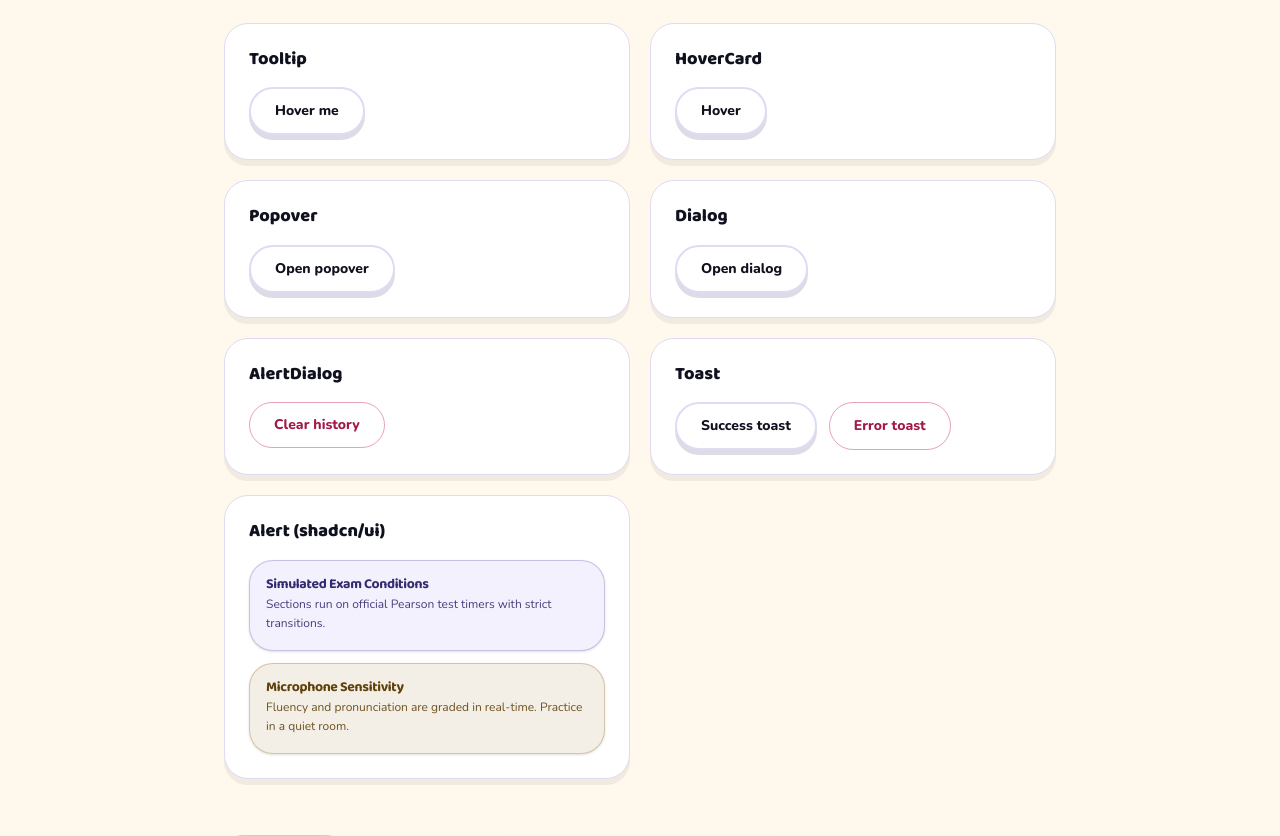
Test: the component gallery › raises an error toast
This screenshot has width=1280, height=836.
(page scrolled)
Click the button "Error toast" at (890, 426), box [829,402,951,450]
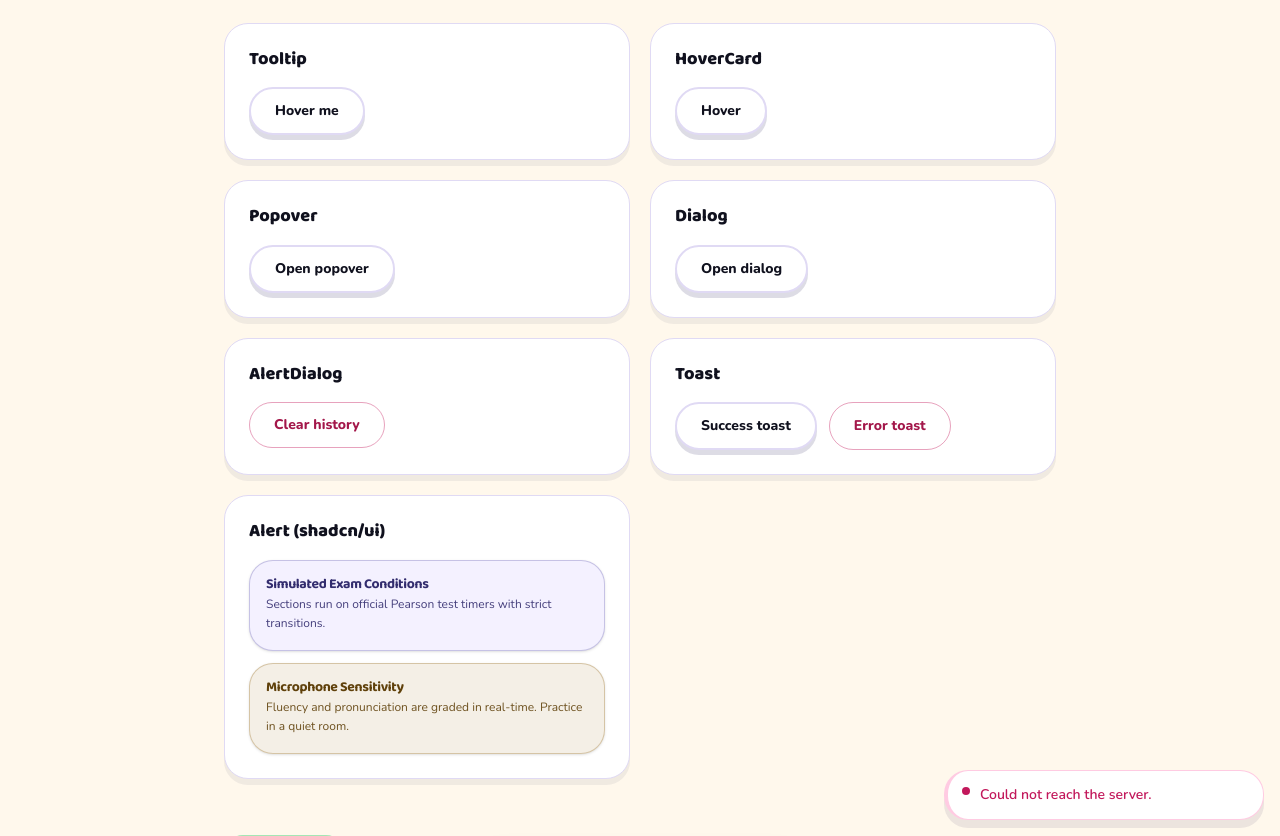
Check: the text "Could not reach the server." is shown, box [980,785,1152,805]
